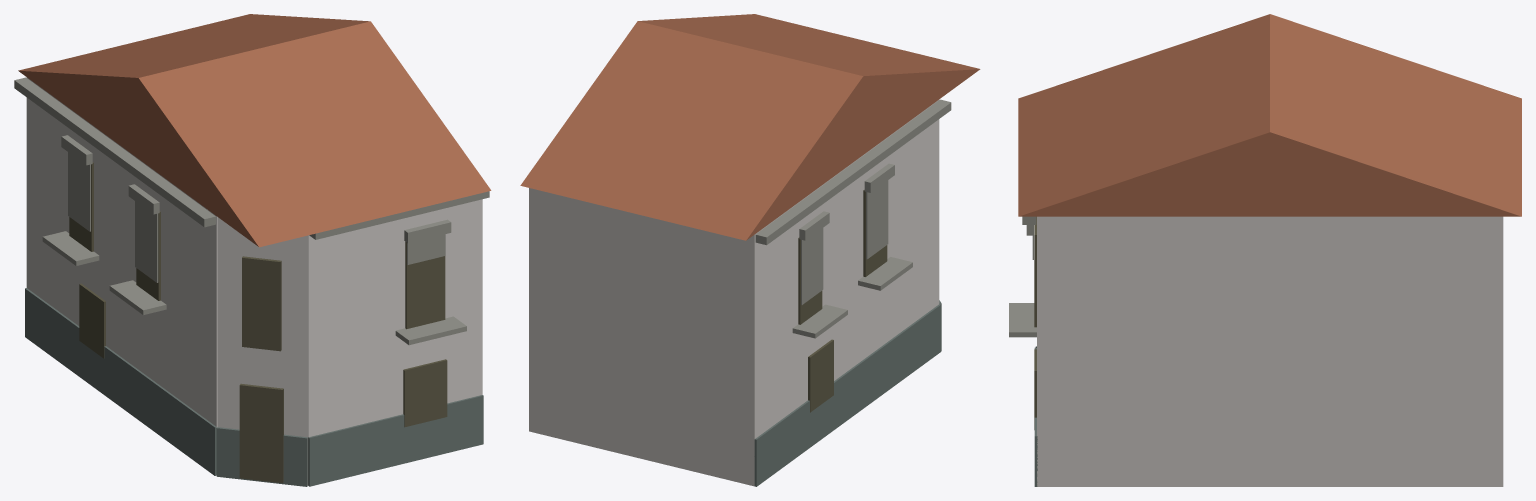
File: SM_Esquina_v0_DosPlantas_LOD1.fbx
3 renders of one model, left to right at view 1: azimuth 30°, elevation 25°; view 2: azimuth 150°, elevation 25°; view 3: azimuth 270°, elevation 25°, orthographic. The views are drawn at different scales.
Parts seen in each view (by area): view 1: SM_pueblo_valenciano_v0_LOD1; view 2: SM_pueblo_valenciano_v0_LOD1; view 3: SM_pueblo_valenciano_v0_LOD1.
Part boxes in pixels (x1,y1,x2,y2): SM_pueblo_valenciano_v0_LOD1: (14,14,491,486); SM_pueblo_valenciano_v0_LOD1: (520,14,980,486); SM_pueblo_valenciano_v0_LOD1: (1009,14,1521,486).
Size of the model in its own units: 6.6 by 8.4 by 11.
